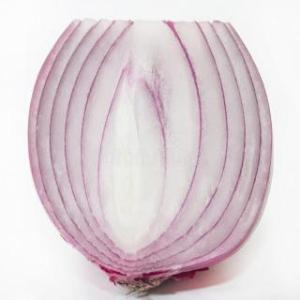onion: (28, 18, 274, 298)
